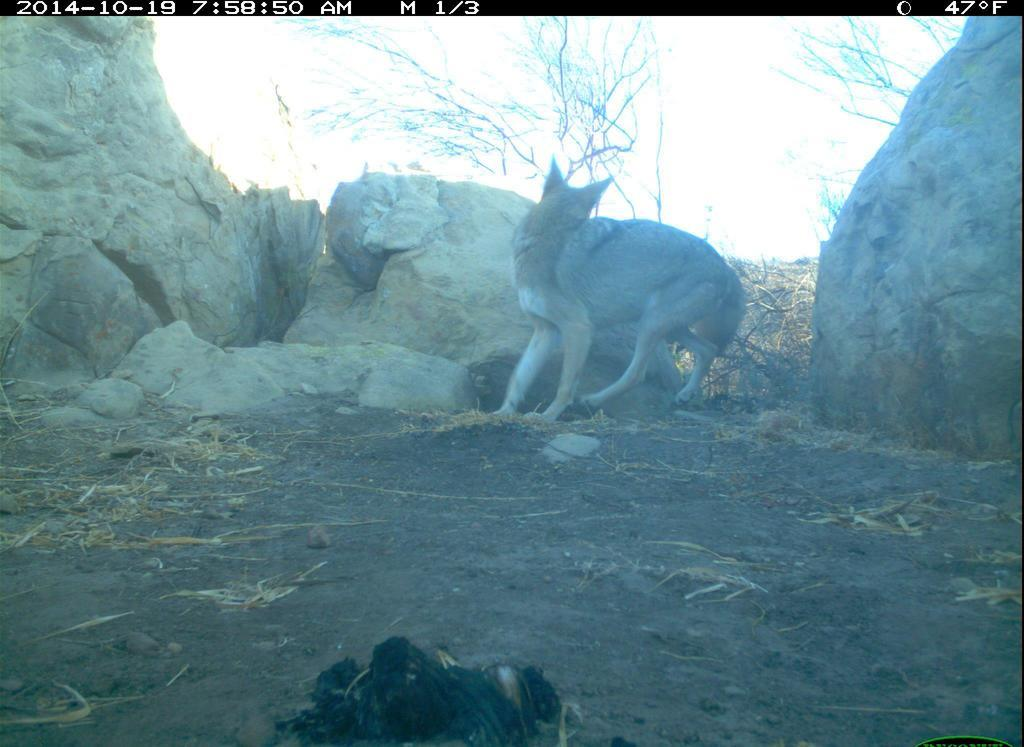coyote: (482, 134, 772, 443)
